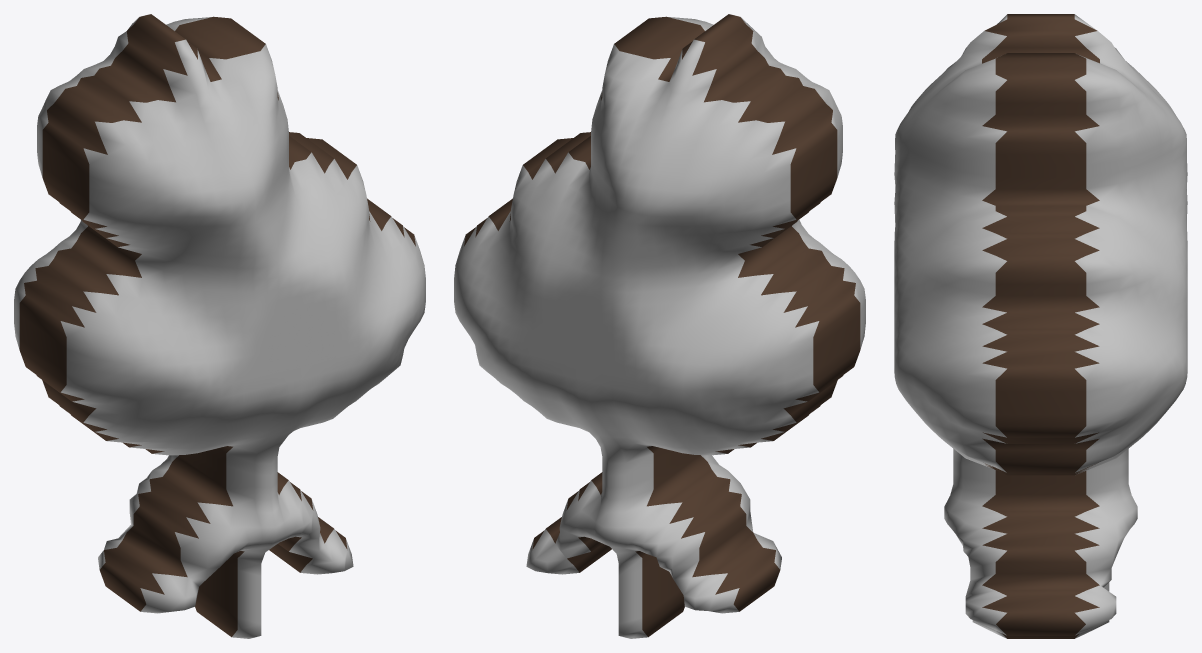
File: jewel_box.glb
The picture shows the model from 3 angles, left to right: view 1: azimuth 30°, elevation 25°; view 2: azimuth 150°, elevation 25°; view 3: azimuth 270°, elevation 25°; orthographic projection. The views are drawn at different scales.
Visible parts, largest first — view 1: jewel_box; view 2: jewel_box; view 3: jewel_box.
Part boxes in pixels (x1,y1,x2,y2): jewel_box: (14, 14, 425, 638); jewel_box: (454, 14, 865, 638); jewel_box: (894, 14, 1187, 638).
Bounding box in the file's own units: 0.4173 × 0.6865 × 0.3105.
